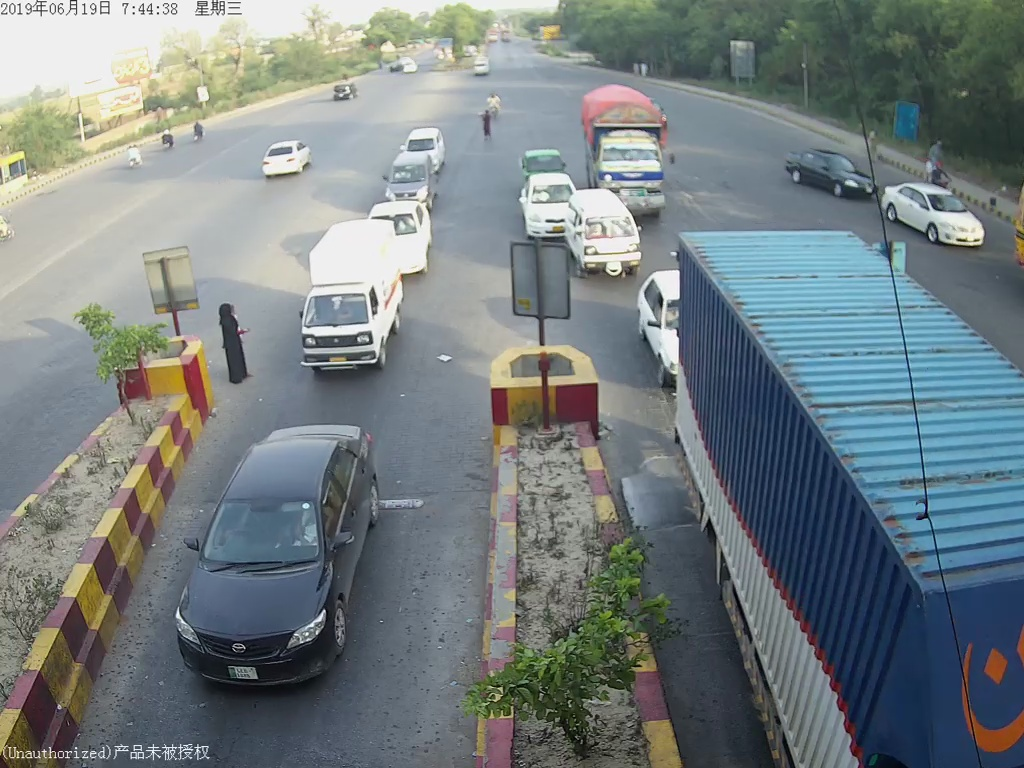Cat-1: (175, 422, 378, 671), (295, 227, 417, 366), (638, 275, 678, 390), (572, 212, 638, 276)
Cat-4: (589, 93, 673, 208)
